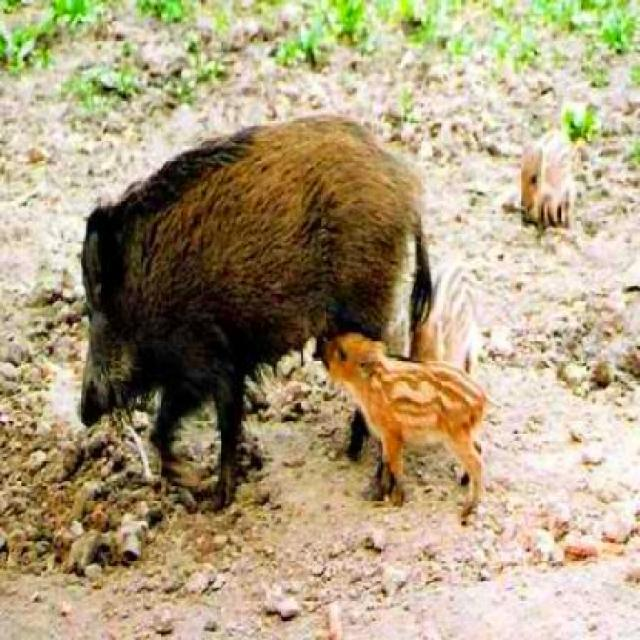Boar: (22, 97, 443, 514), (317, 265, 494, 507)
